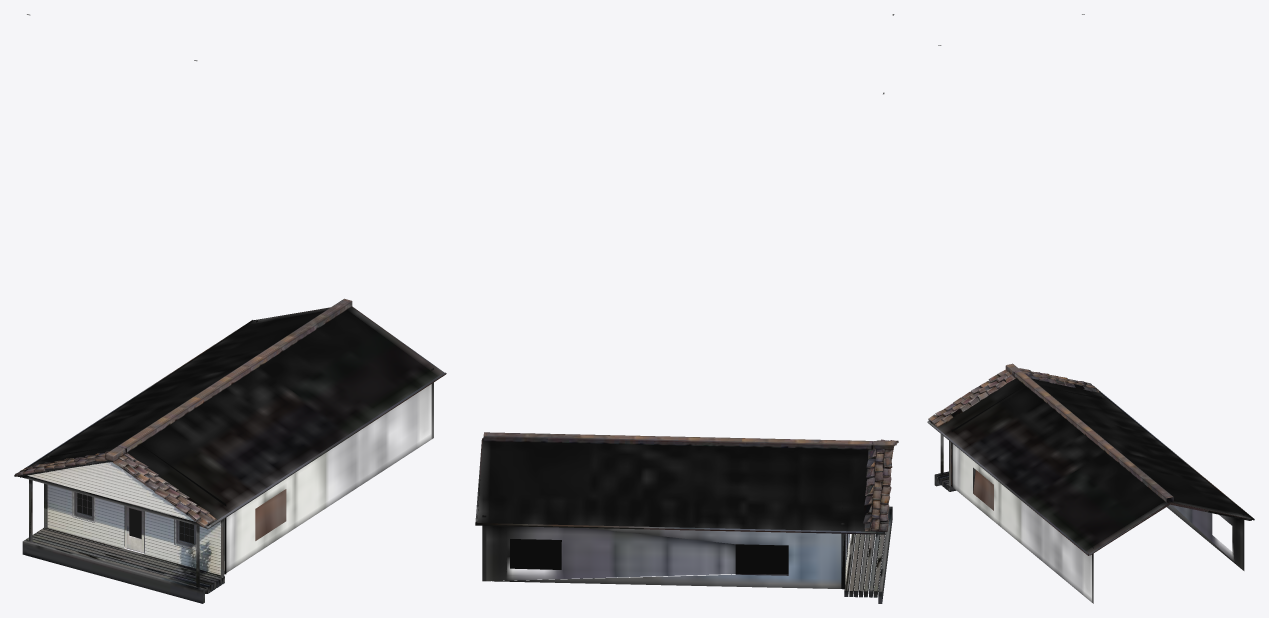
Rendered from Casa.glb.
3 views of the same model, side by side, from view 1: azimuth 30°, elevation 25°; view 2: azimuth 150°, elevation 25°; view 3: azimuth 270°, elevation 25° (orthographic). The views are drawn at different scales.
Parts seen in each view (by area): view 1: Casa_Estrutura, Casa_ParedeLateral, Casa_Telhado, Casa_Batentes, Casa_Vidros; view 2: Casa_Estrutura, Casa_ParedeLateral, Casa_Telhado, Casa_ParedeFrente; view 3: Casa_Estrutura, Casa_ParedeLateral, Casa_Telhado.
Boxes of the visible parts, box(x1,y1,x2,y2) form: Casa_Estrutura: box(14, 14, 446, 603); Casa_ParedeLateral: box(27, 384, 431, 574); Casa_Telhado: box(15, 298, 352, 570); Casa_Batentes: box(74, 492, 195, 553); Casa_Vidros: box(77, 493, 193, 543); Casa_Estrutura: box(475, 14, 894, 603); Casa_ParedeLateral: box(486, 459, 891, 588); Casa_Telhado: box(483, 432, 898, 531); Casa_ParedeFrente: box(510, 508, 842, 574); Casa_Estrutura: box(927, 14, 1254, 603); Casa_ParedeLateral: box(951, 443, 1242, 602); Casa_Telhado: box(928, 363, 1173, 510).
Bounding box in the file's own units: 21.25 × 25.6 × 17.35.
2 materials, 1 textured.
